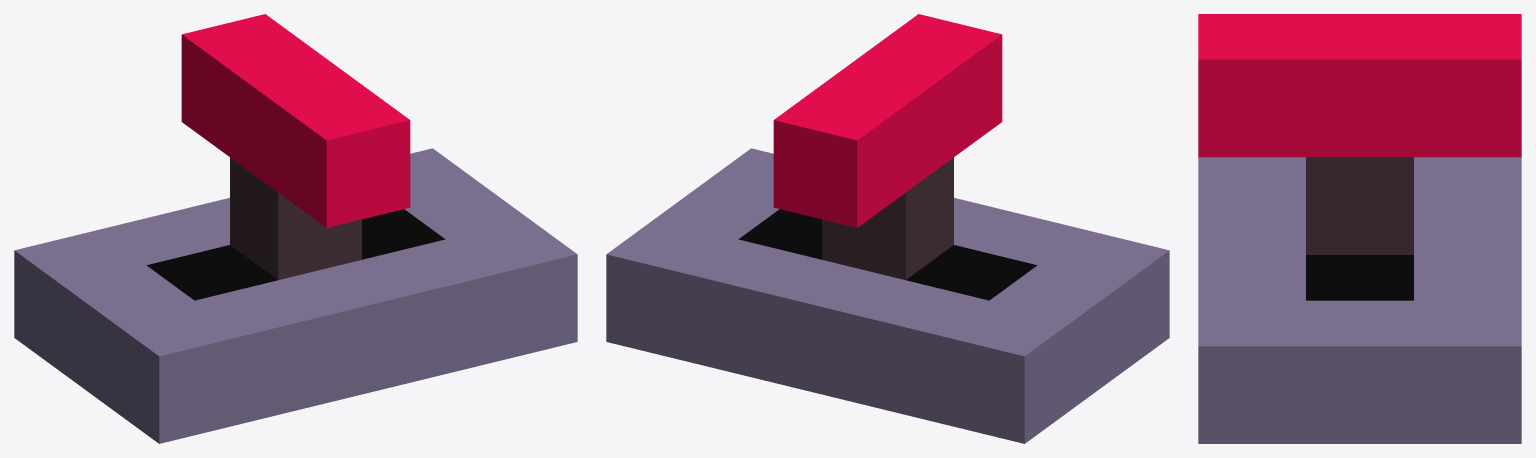
Rendered from lever_a_a_red_off.obj.
3 views of the same model, side by side, from view 1: azimuth 30°, elevation 25°; view 2: azimuth 150°, elevation 25°; view 3: azimuth 270°, elevation 25° (orthographic). The views are drawn at different scales.
Bounding box in the file's own units: 0.5 × 0.3 × 0.3.
1 material, 1 textured.
